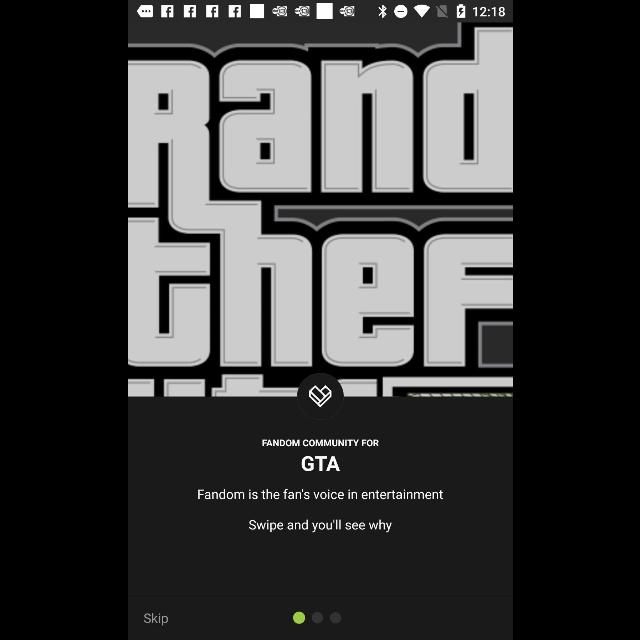image: (128, 24, 512, 396), (296, 373, 342, 421)
pageindicator: (292, 612, 341, 624)
text: (198, 488, 442, 499), (248, 520, 392, 532), (262, 439, 378, 447), (301, 456, 339, 472), (144, 612, 168, 626)
uppertaskbar: (128, 1, 512, 23)
